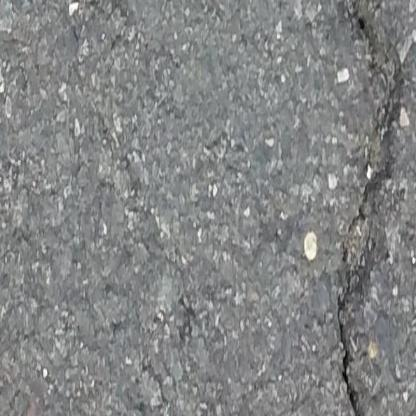Cracks: (330, 0, 409, 416)
